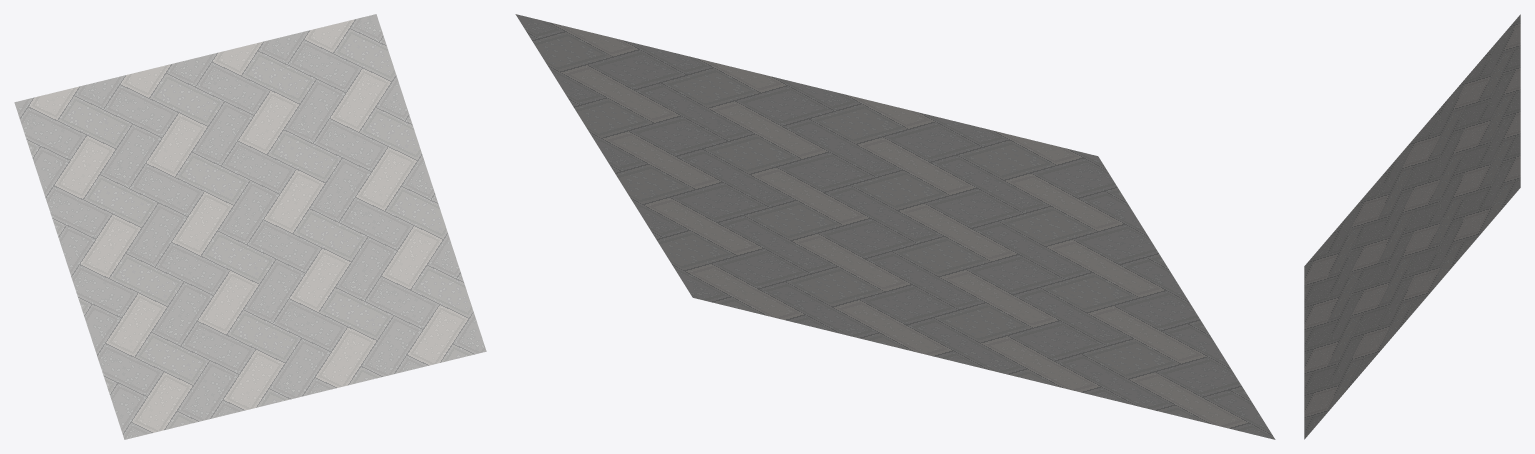
The model's file is kd_stage_135ded_1_14_bounded.glb.
3 renders of one model, left to right at view 1: azimuth 30°, elevation 25°; view 2: azimuth 150°, elevation 25°; view 3: azimuth 270°, elevation 25°, orthographic. The views are drawn at different scales.
Parts seen in each view (by area): view 1: kd_stage_135ded_1_14_bounded; view 2: kd_stage_135ded_1_14_bounded; view 3: kd_stage_135ded_1_14_bounded.
Boxes of the visible parts, x1,y1,x2,y2 form: kd_stage_135ded_1_14_bounded: (14,14,486,439); kd_stage_135ded_1_14_bounded: (515,14,1275,439); kd_stage_135ded_1_14_bounded: (1304,14,1520,439).
Bounding box in the file's own units: 4.62 × 3.13 × 2.44.
1 material, 1 textured.
